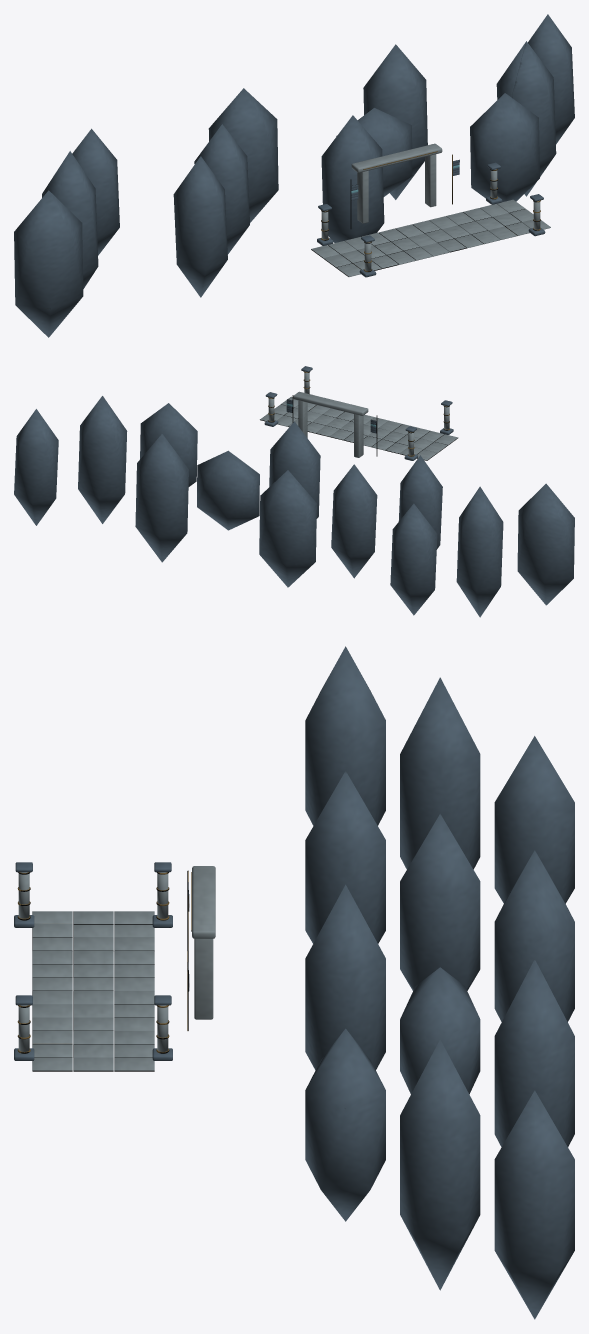
The model's file is environment.glb.
3 views of the same model, one above another, from view 1: azimuth 30°, elevation 25°; view 2: azimuth 150°, elevation 25°; view 3: azimuth 270°, elevation 25° (orthographic). The views are drawn at different scales.
Parts seen in each view (by area): view 1: Game_Mesh; view 2: Game_Mesh; view 3: Game_Mesh.
Boxes of the visible parts, x1,y1,x2,y2 form: Game_Mesh: (14, 14, 574, 337); Game_Mesh: (14, 366, 574, 617); Game_Mesh: (14, 646, 574, 1319).
Bounding box in the file's own units: 72.79 × 17.99 × 35.6.
Materials: 1 (1 with a texture image).
